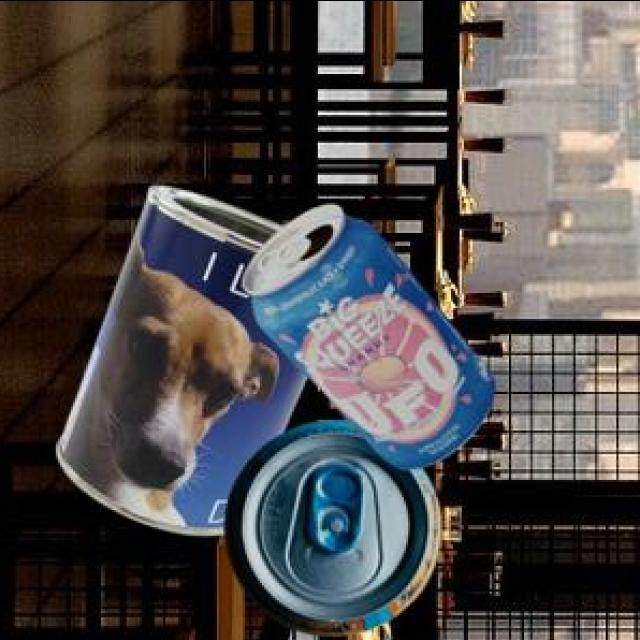logam: (59, 181, 310, 529), (246, 201, 497, 465), (229, 418, 446, 630)
